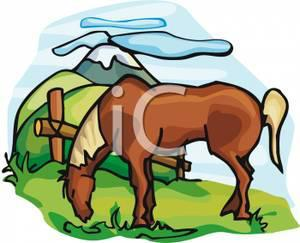horse: (42, 75, 285, 232)
